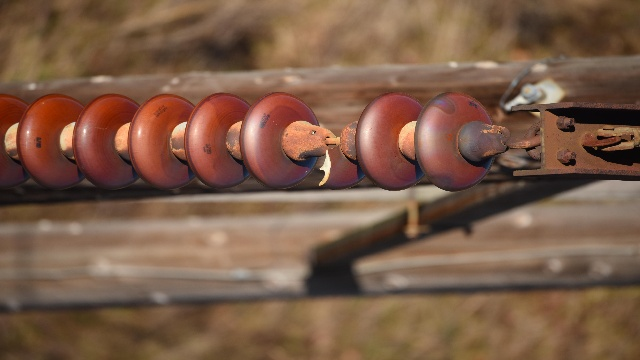broken_local: (315, 134, 342, 188)
insulator_unspecified: (0, 91, 497, 196)
pollution_flashover_local: (435, 92, 459, 118)
